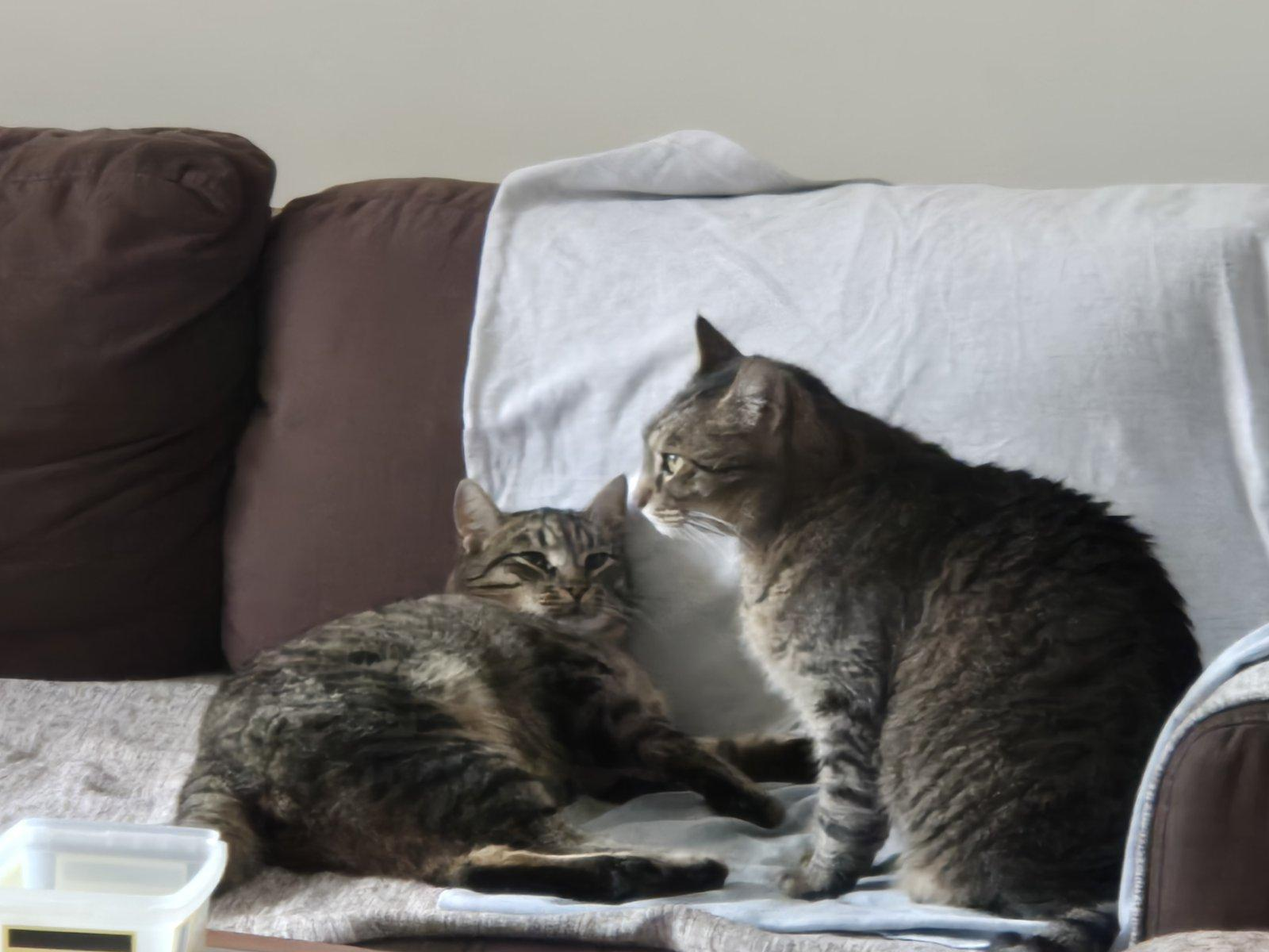macka: (632, 318, 1208, 921), (175, 473, 813, 902)
